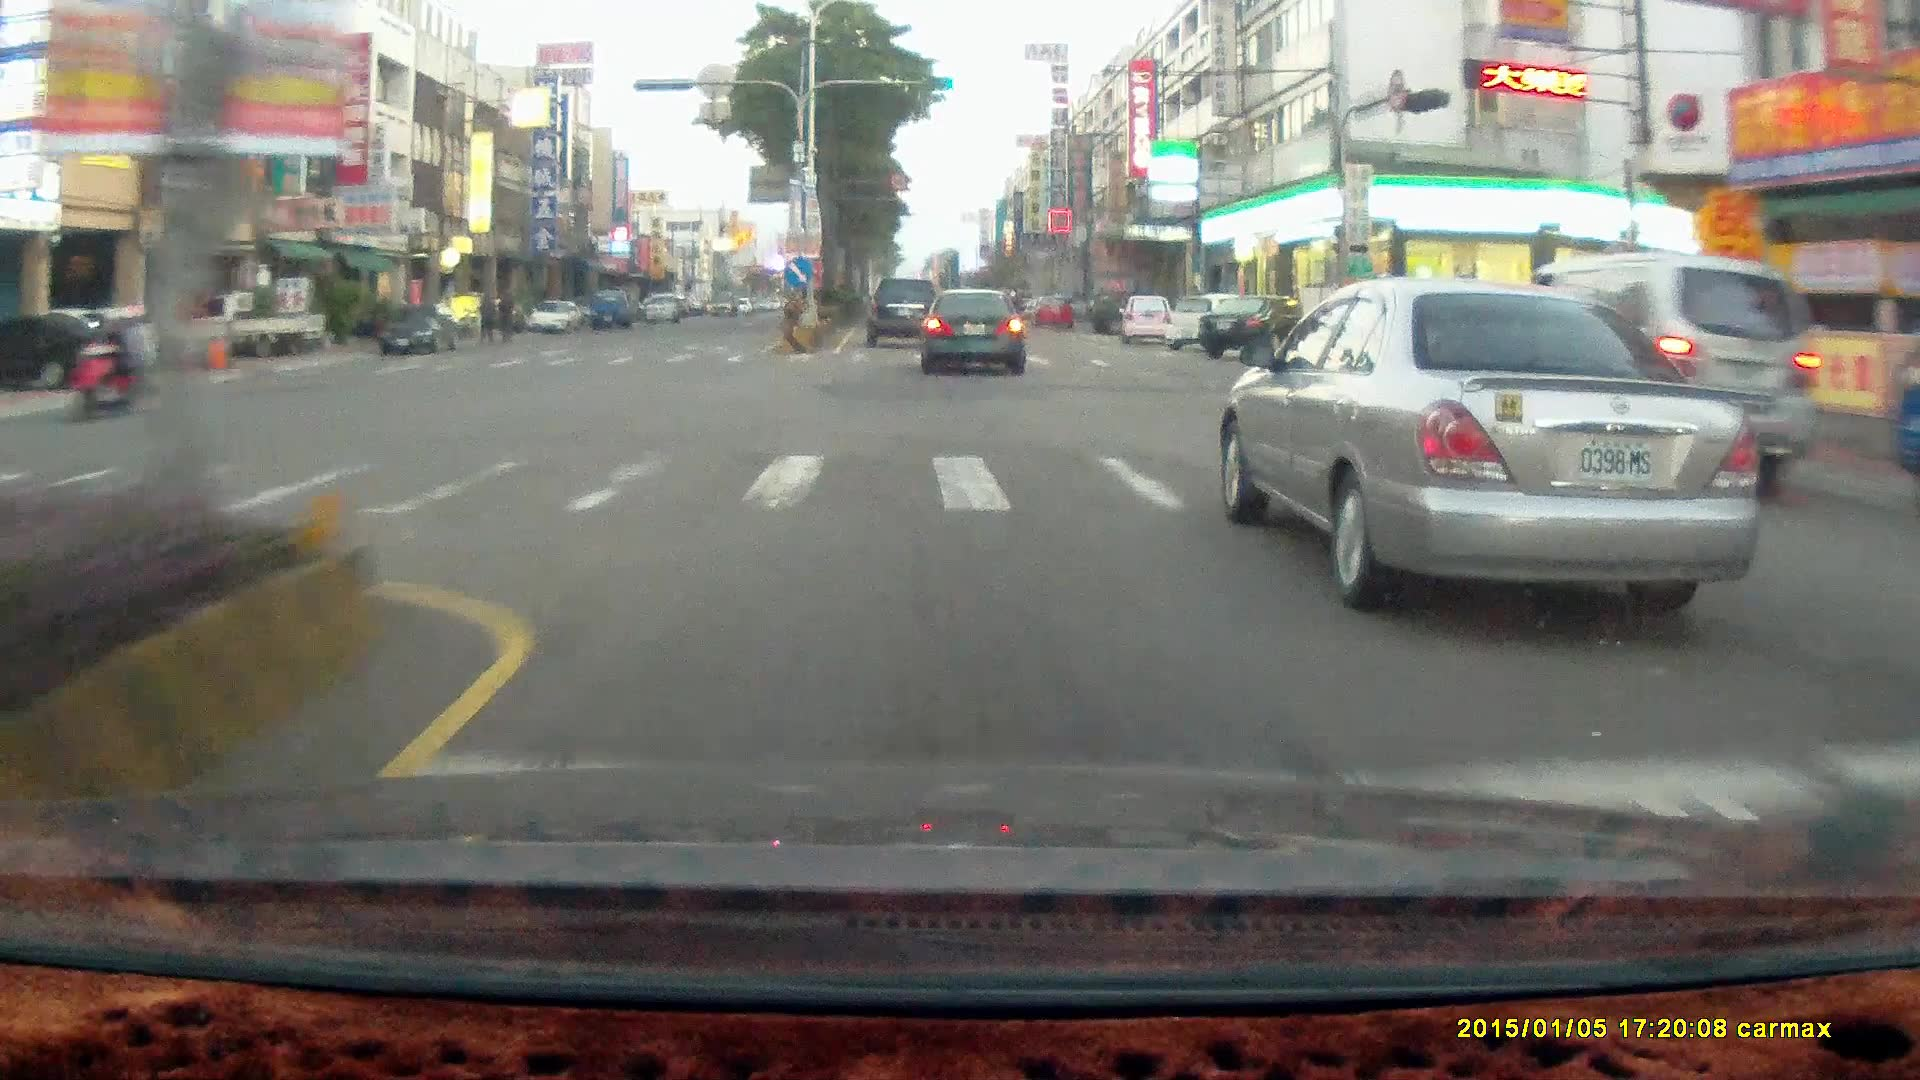pedestrian: (498, 281, 521, 341), (476, 286, 498, 344), (475, 288, 496, 344), (495, 289, 516, 344)
rider: (63, 306, 160, 419)
vehicle: (1223, 283, 1761, 603), (1477, 250, 1820, 502), (1477, 256, 1830, 486), (172, 293, 332, 370), (1, 311, 151, 392), (158, 290, 325, 361), (924, 291, 1032, 382), (0, 311, 123, 387), (921, 287, 1025, 376), (1197, 290, 1322, 356), (1200, 295, 1309, 361), (1888, 319, 1920, 519), (864, 275, 939, 351), (1166, 293, 1258, 352), (373, 299, 466, 359), (866, 275, 942, 346), (380, 307, 458, 353), (1114, 296, 1174, 348), (1088, 289, 1155, 333), (1121, 295, 1176, 347), (525, 299, 585, 337), (525, 300, 579, 333), (589, 288, 628, 327), (1031, 293, 1073, 327), (641, 293, 676, 321)
